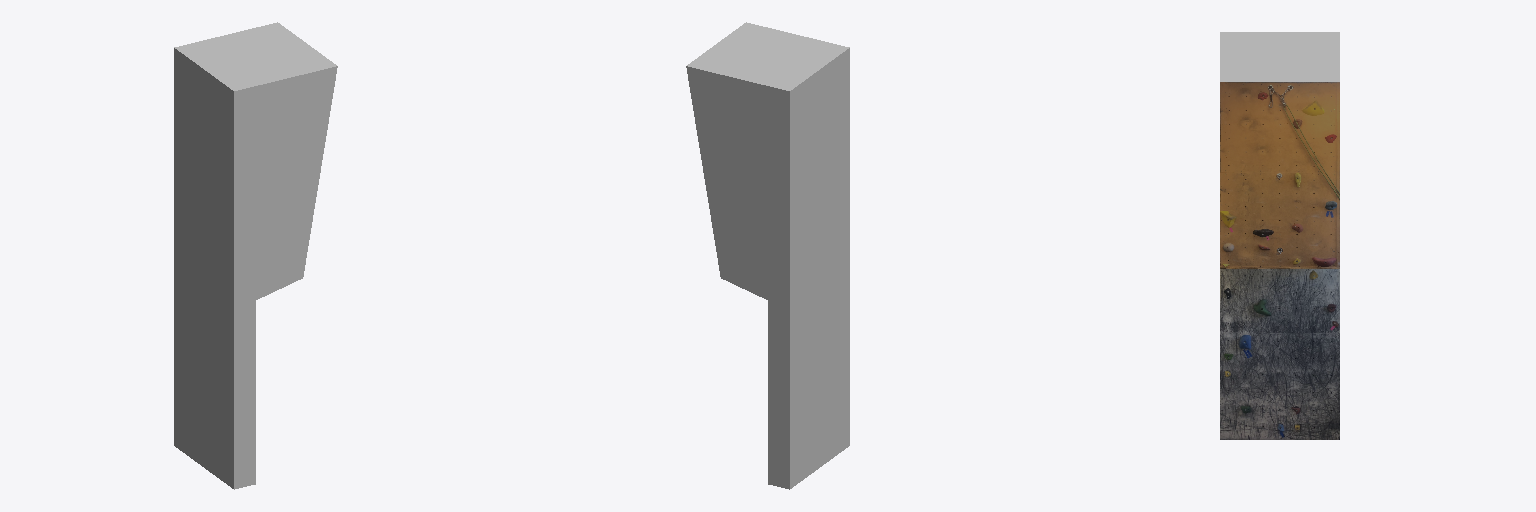
3 views of the same model, side by side, from view 1: azimuth 30°, elevation 25°; view 2: azimuth 150°, elevation 25°; view 3: azimuth 270°, elevation 25° (orthographic).
Parts seen in each view (by area): view 1: Cube; view 2: Cube; view 3: Cube.
Boxes of the visible parts, <box> form: Cube: <box>174,22,337,489</box>; Cube: <box>686,22,849,489</box>; Cube: <box>1220,32,1339,439</box>.
Size of the model in its own units: 1.2 by 4.4 by 1.2.
Materials: 2 (1 with a texture image).